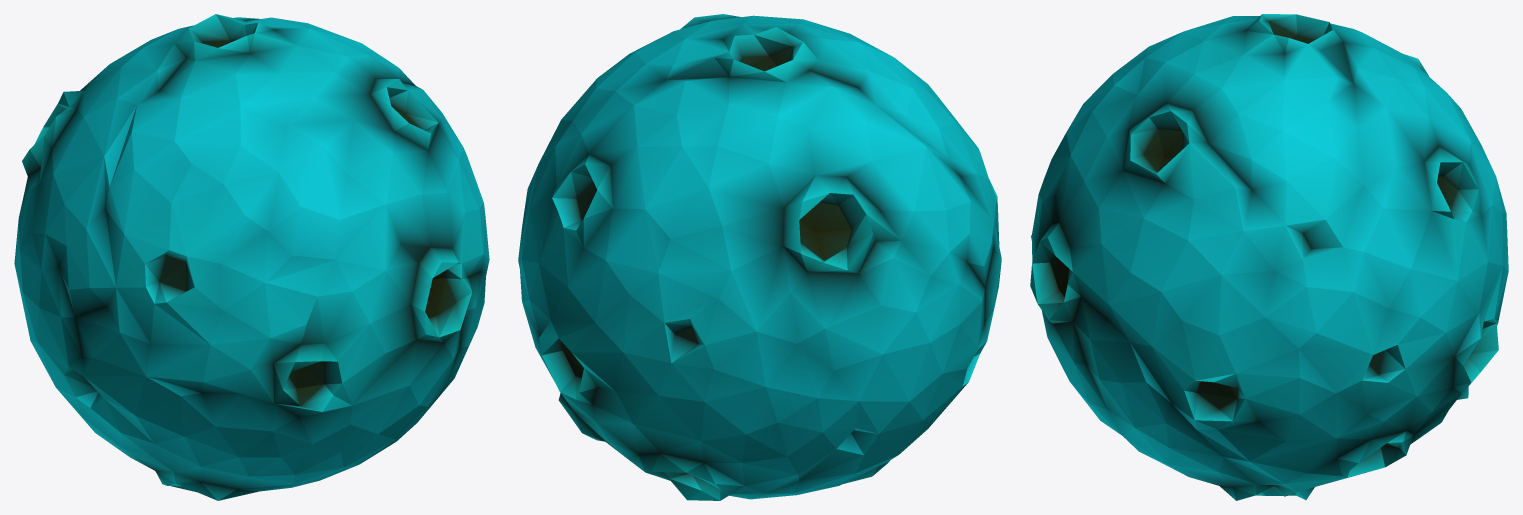
File: moon17.fbx
3 views of the same model, side by side, from view 1: azimuth 30°, elevation 25°; view 2: azimuth 150°, elevation 25°; view 3: azimuth 270°, elevation 25° (orthographic).
Parts seen in each view (by area): view 1: attribblur1; view 2: attribblur1; view 3: attribblur1.
Part boxes in pixels (x1=…): attribblur1: x1=14, y1=14, x2=489, y2=500; attribblur1: x1=518, y1=14, x2=1001, y2=500; attribblur1: x1=1030, y1=14, x2=1508, y2=500.
Bounding box in the file's own units: 0.8 × 0.8285 × 0.8063.
